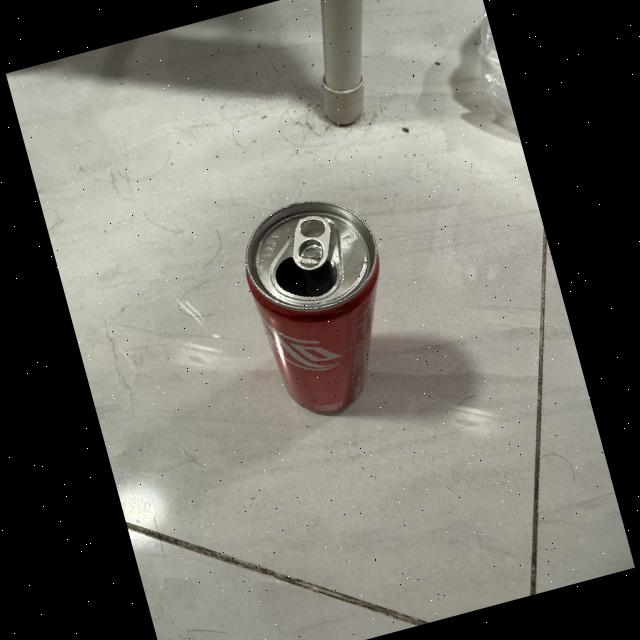Cola: (222, 175, 429, 435)
